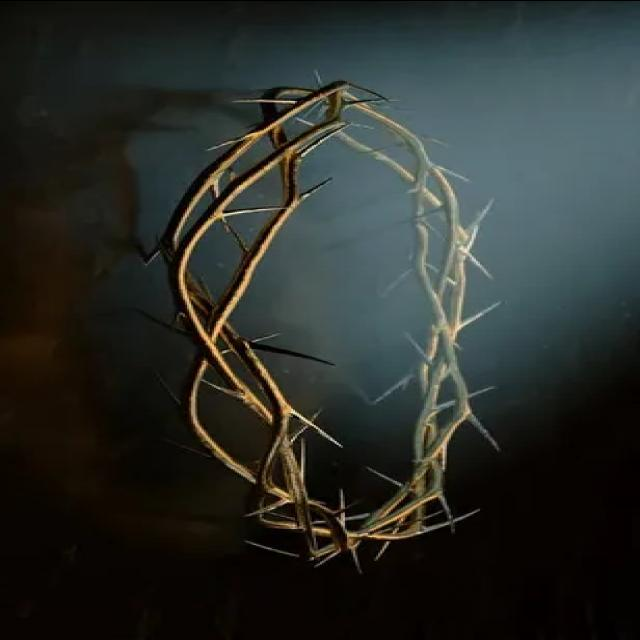crown: (176, 76, 510, 574)
